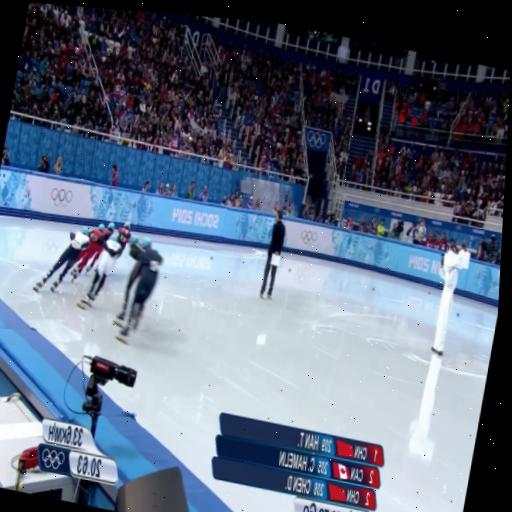Skater: (116, 238, 161, 344), (77, 223, 129, 308), (32, 227, 88, 291), (113, 235, 149, 327), (69, 223, 114, 281)
